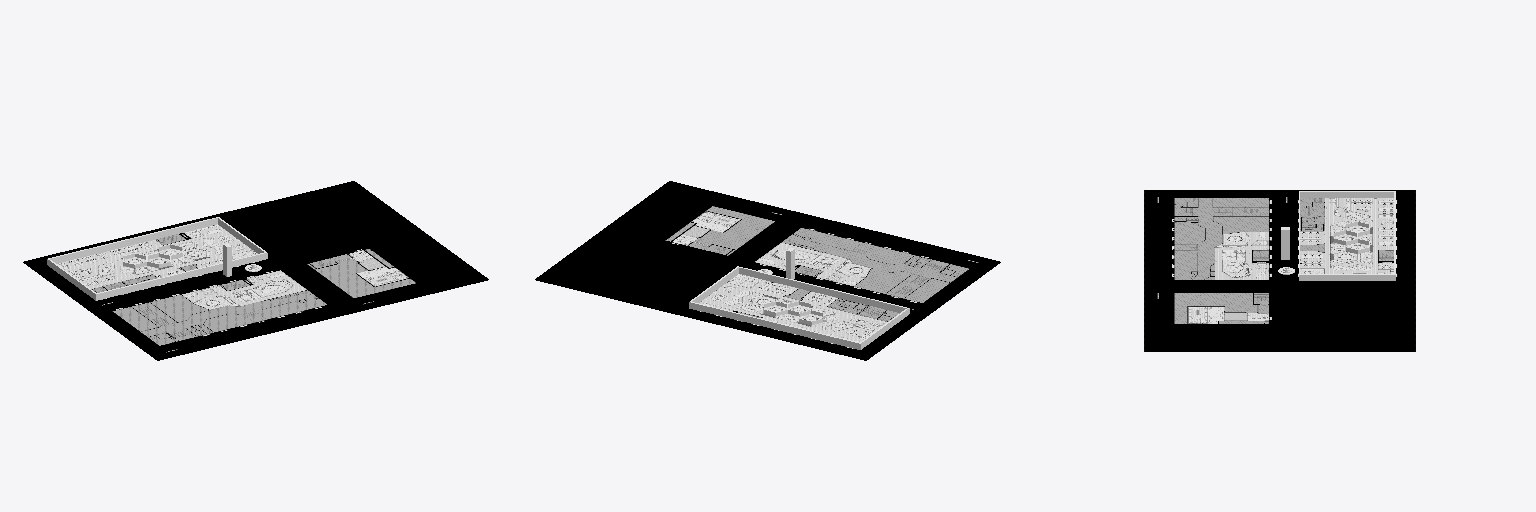
3 renders of one model, left to right at view 1: azimuth 30°, elevation 25°; view 2: azimuth 150°, elevation 25°; view 3: azimuth 270°, elevation 25°, orthographic.
Parts seen in each view (by area): view 1: Mesh6 Model, Mesh1 Model; view 2: Mesh6 Model, Mesh1 Model; view 3: Mesh6 Model, Mesh1 Model.
Part boxes in pixels (left/top/right/bottom): Mesh6 Model: left=23, top=181, right=488, bottom=360; Mesh1 Model: left=47, top=217, right=267, bottom=300; Mesh6 Model: left=535, top=181, right=1000, bottom=360; Mesh1 Model: left=689, top=266, right=909, bottom=349; Mesh6 Model: left=1144, top=190, right=1415, bottom=351; Mesh1 Model: left=1299, top=191, right=1395, bottom=280.
Size of the model in its own units: 83.88 by 7.2 by 59.25.
Materials: 3 (1 with a texture image).